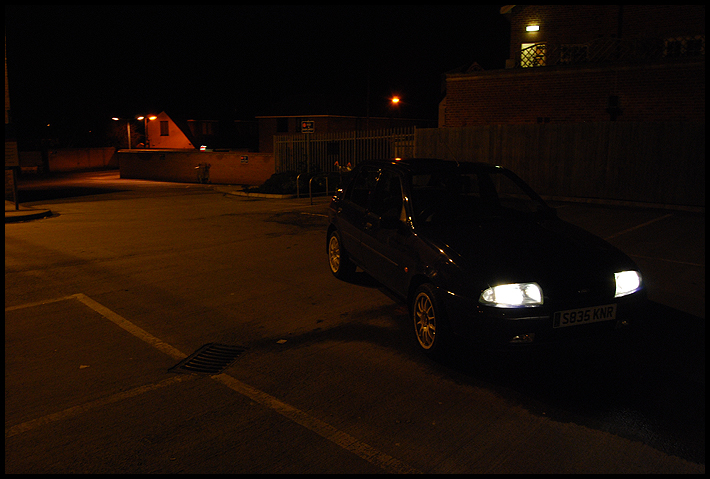car: (319, 151, 656, 370)
